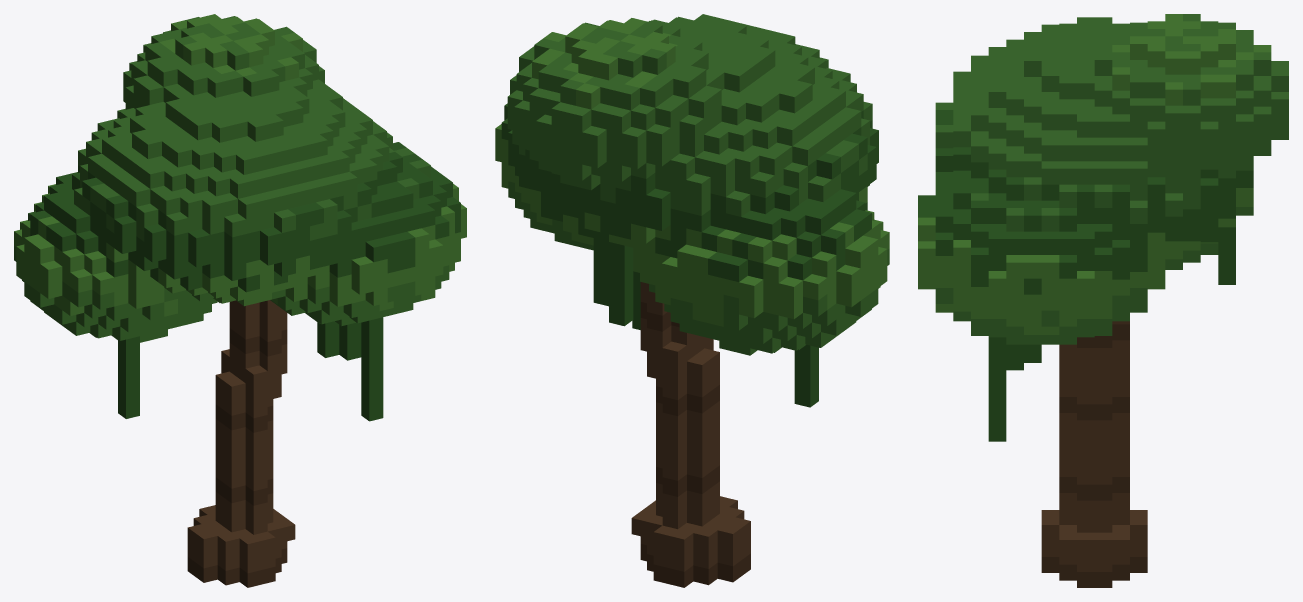
Rendered from prop_tree.glb.
The picture shows the model from 3 angles, left to right: view 1: azimuth 30°, elevation 25°; view 2: azimuth 150°, elevation 25°; view 3: azimuth 270°, elevation 25°; orthographic projection. The views are drawn at different scales.
Visible parts, largest first — view 1: prop_tree; view 2: prop_tree; view 3: prop_tree.
Boxes of the visible parts, box(x1,y1,x2,y2) form: prop_tree: box(14, 14, 466, 587); prop_tree: box(495, 14, 889, 587); prop_tree: box(918, 14, 1288, 587).
Bounding box in the file's own units: 2.6 × 3.4 × 2.1.
